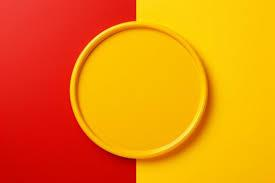yellow_circle: (61, 17, 216, 163)
